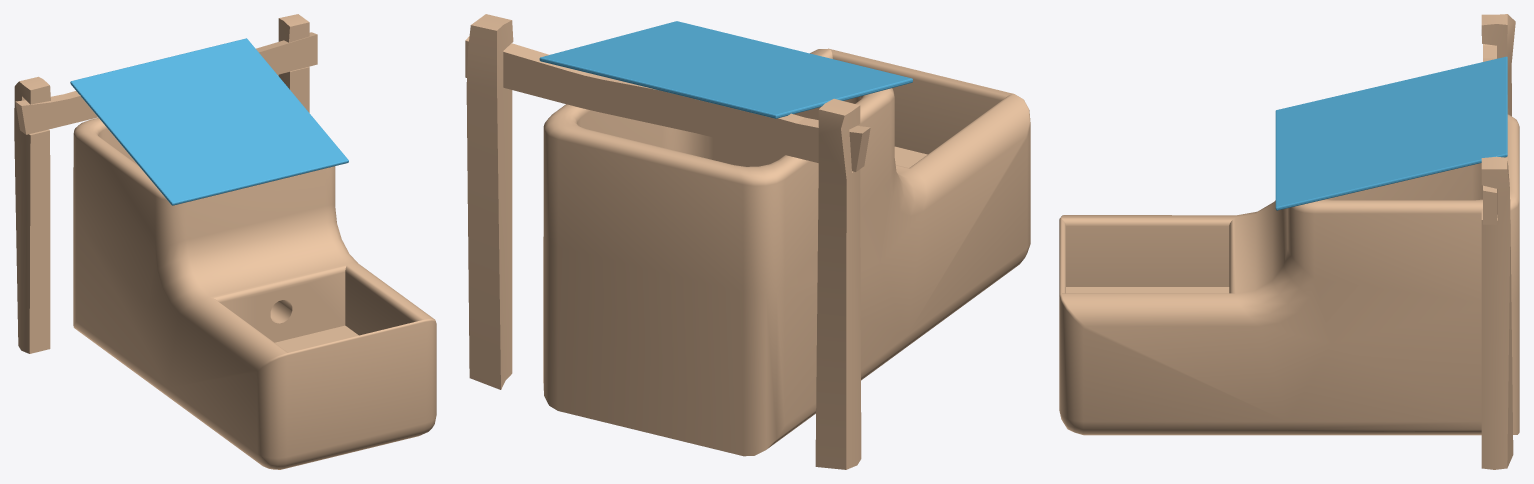
File: water purify.fbx
3 views of the same model, side by side, from view 1: azimuth 30°, elevation 25°; view 2: azimuth 150°, elevation 25°; view 3: azimuth 270°, elevation 25° (orthographic). The views are drawn at different scales.
Parts seen in each view (by area): view 1: Cube; view 2: Cube; view 3: Cube.
Part boxes in pixels (x1,y1,x2,y2): Cube: (14,14,436,469); Cube: (465,14,1030,469); Cube: (1059,14,1519,469).
Size of the model in its own units: 93.72 by 81.08 by 111.
